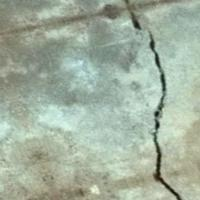crack: (104, 3, 197, 199)
